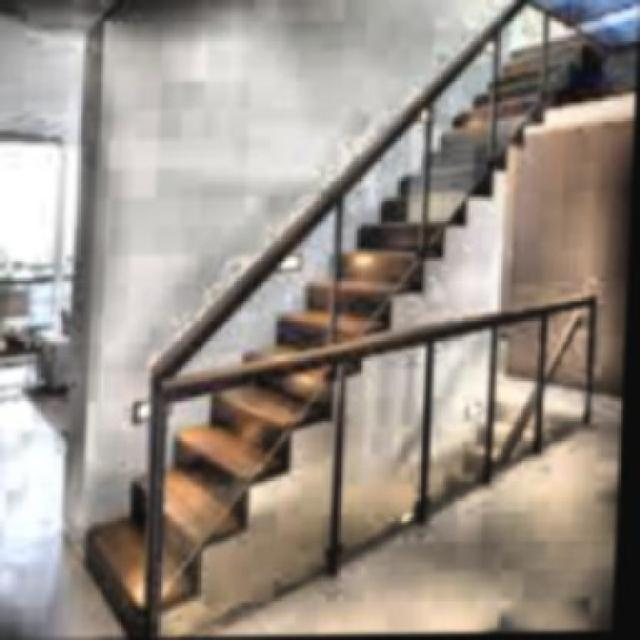stair: (77, 34, 608, 636)
